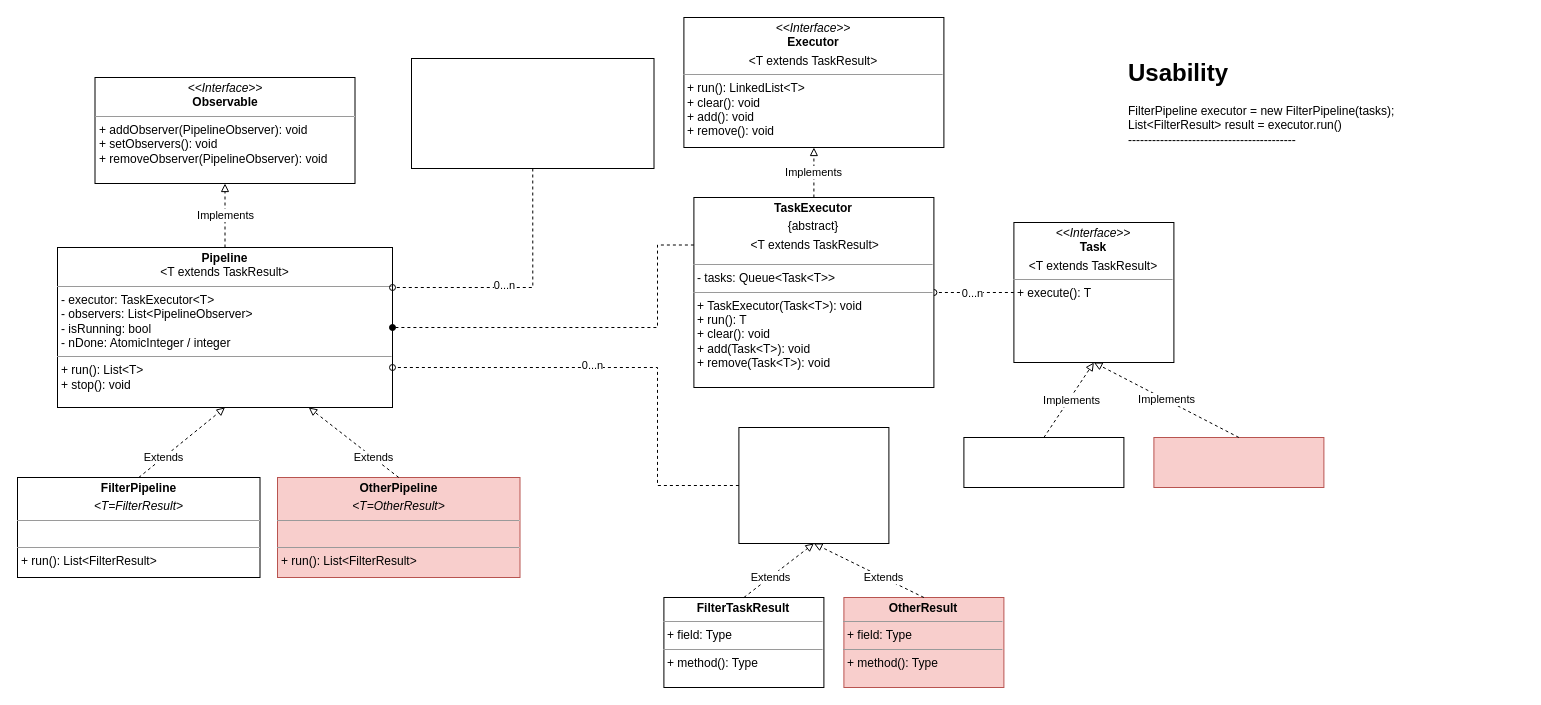
This 1541x705 diagram has some shape labels left out. Here are the shapes that lost their labels. From the top down, the centre of each, then its label:
At [532,113]: "<<Interface>> PipelineObserver + finished(): void + update(int progress): void".
At [1043,462]: "FilterTask + execute(): FilterTaskResult".
At [1238,462]: "OtherTask + execute(): OtherTaskResult".
At [813,485]: "TaskResult {abstract} <T extends Object> - result: T + getResult(): T".
